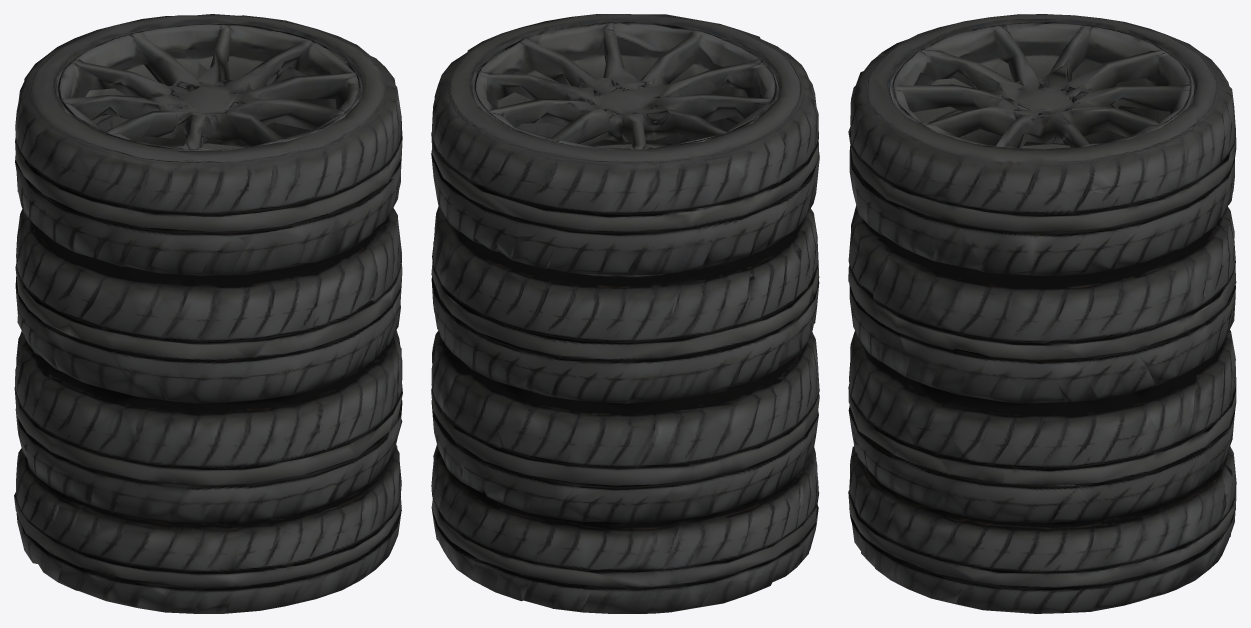
File: tyre_stack.glb
3 views of the same model, side by side, from view 1: azimuth 30°, elevation 25°; view 2: azimuth 150°, elevation 25°; view 3: azimuth 270°, elevation 25° (orthographic).
Parts seen in each view (by area): view 1: tripo_node_c1ebe697-68a0-450b-b69c-ecdf3a5d0879; view 2: tripo_node_c1ebe697-68a0-450b-b69c-ecdf3a5d0879; view 3: tripo_node_c1ebe697-68a0-450b-b69c-ecdf3a5d0879.
Part boxes in pixels (x1,y1,x2,y2): tripo_node_c1ebe697-68a0-450b-b69c-ecdf3a5d0879: [14, 14, 402, 613]; tripo_node_c1ebe697-68a0-450b-b69c-ecdf3a5d0879: [431, 14, 819, 613]; tripo_node_c1ebe697-68a0-450b-b69c-ecdf3a5d0879: [848, 14, 1236, 613].
Size of the model in its own units: 0.4994 by 0.65 by 0.4961.
Materials: 1 (1 with a texture image).
